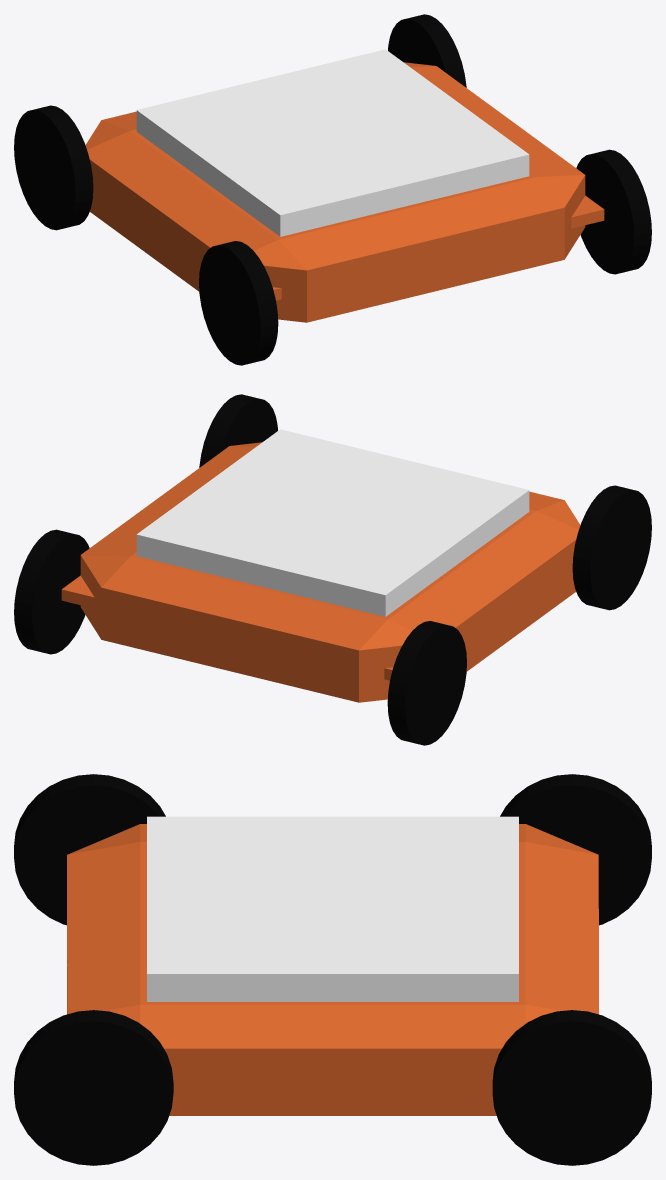
File: robot_usine.fbx
3 views of the same model, one above another, from view 1: azimuth 30°, elevation 25°; view 2: azimuth 150°, elevation 25°; view 3: azimuth 270°, elevation 25° (orthographic). The views are drawn at different scales.
Visible parts, largest first — view 1: Robot_usine; view 2: Robot_usine; view 3: Robot_usine.
Part boxes in pixels (x1,y1,x2,y2): Robot_usine: [14, 14, 651, 365]; Robot_usine: [14, 394, 651, 745]; Robot_usine: [14, 774, 651, 1165].
Size of the model in its own units: 2.2 by 0.61 by 2.4.
